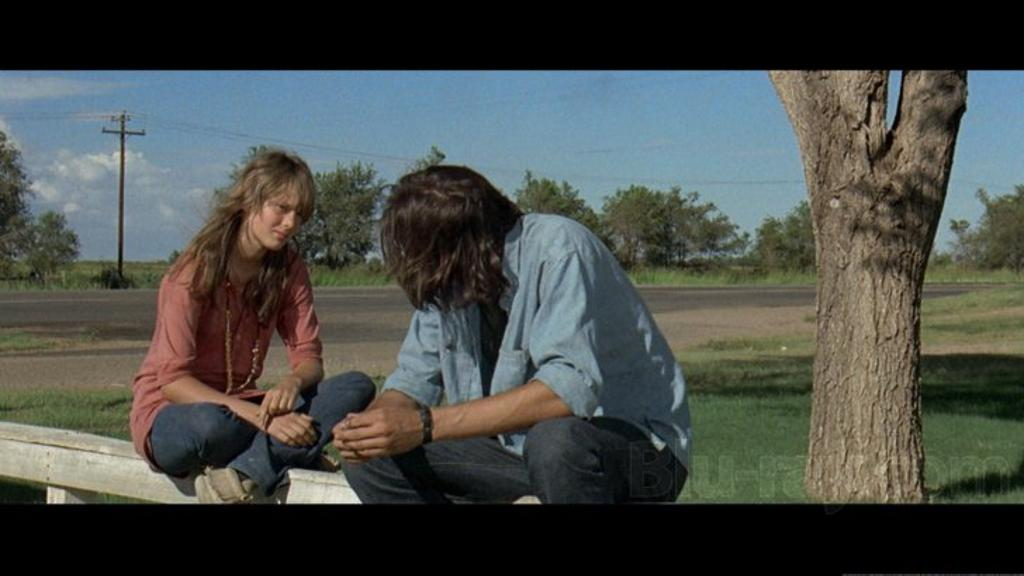face: (256, 178, 306, 252)
